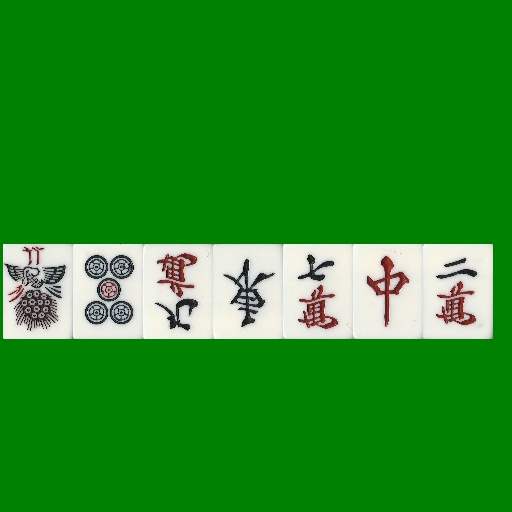1s: (3, 244, 73, 339)
2m: (423, 244, 493, 339)
5p: (73, 244, 143, 339)
7m: (283, 244, 353, 339)
9m: (143, 244, 213, 339)
east: (213, 244, 283, 339)
tyun: (353, 244, 423, 339)
